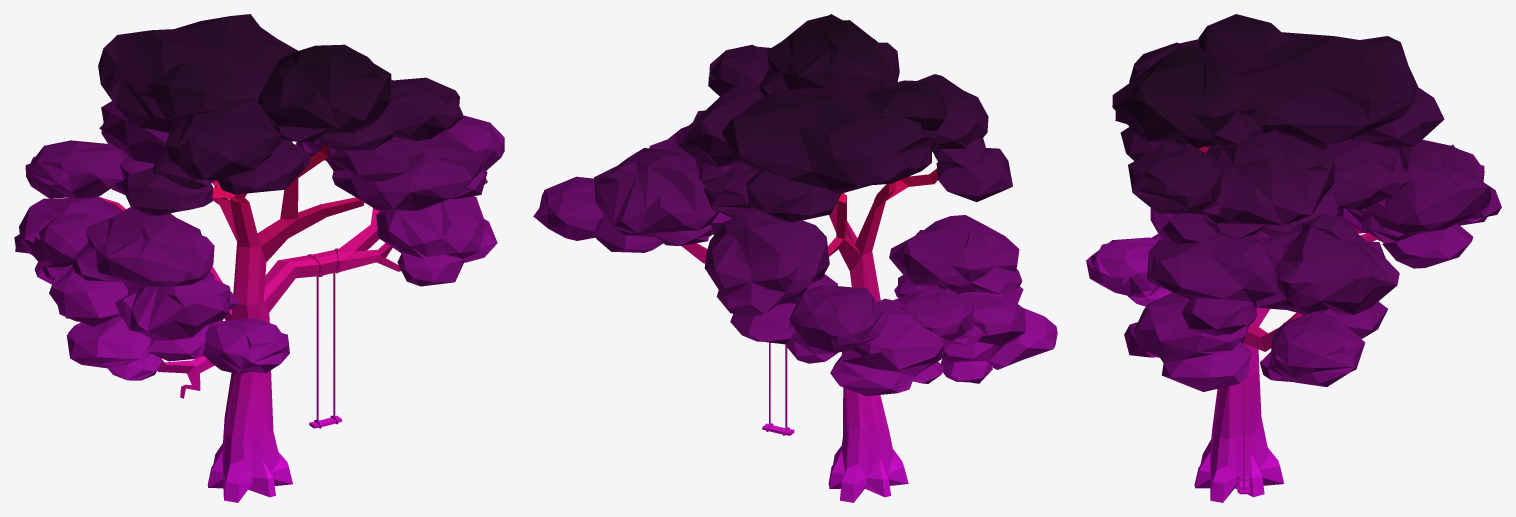
The model's file is SM_Env_Tree_Large_01.fbx.
3 renders of one model, left to right at view 1: azimuth 30°, elevation 25°; view 2: azimuth 150°, elevation 25°; view 3: azimuth 270°, elevation 25°, orthographic. The views are drawn at different scales.
Visible parts, largest first — view 1: SM_Env_Tree_Large_01, SM_Env_Tree_Large_Swing_01; view 2: SM_Env_Tree_Large_01, SM_Env_Tree_Large_Swing_01; view 3: SM_Env_Tree_Large_01.
Boxes of the visible parts, box(x1,y1,x2,y2) form: SM_Env_Tree_Large_01: box(14, 14, 504, 502); SM_Env_Tree_Large_Swing_01: box(309, 272, 342, 428); SM_Env_Tree_Large_01: box(533, 14, 1057, 502); SM_Env_Tree_Large_Swing_01: box(762, 342, 794, 435); SM_Env_Tree_Large_01: box(1086, 14, 1501, 502).
Bounding box in the file's own units: 1431 × 1284 × 1049.
